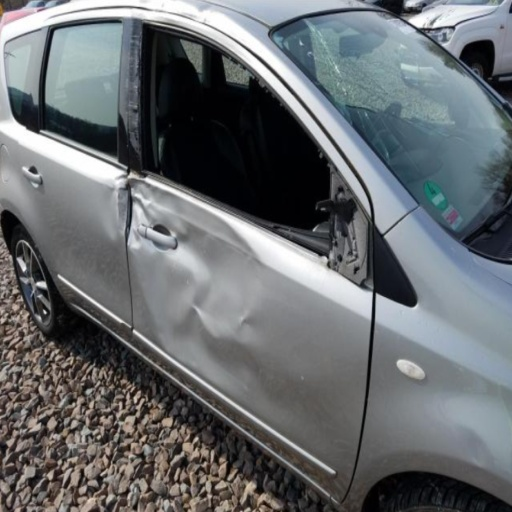dent: (128, 170, 263, 401), (138, 0, 220, 38), (101, 167, 128, 241), (466, 428, 493, 472)
scratch: (128, 21, 143, 134), (240, 319, 248, 328), (300, 374, 306, 381)
